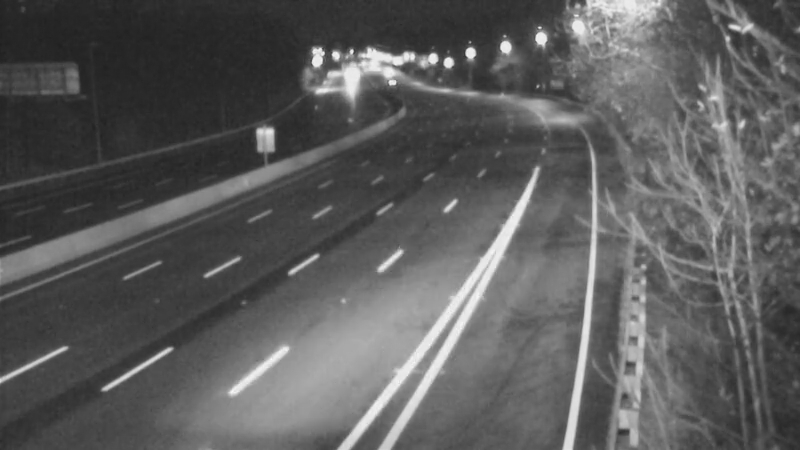vehicle: (326, 55, 376, 105)
